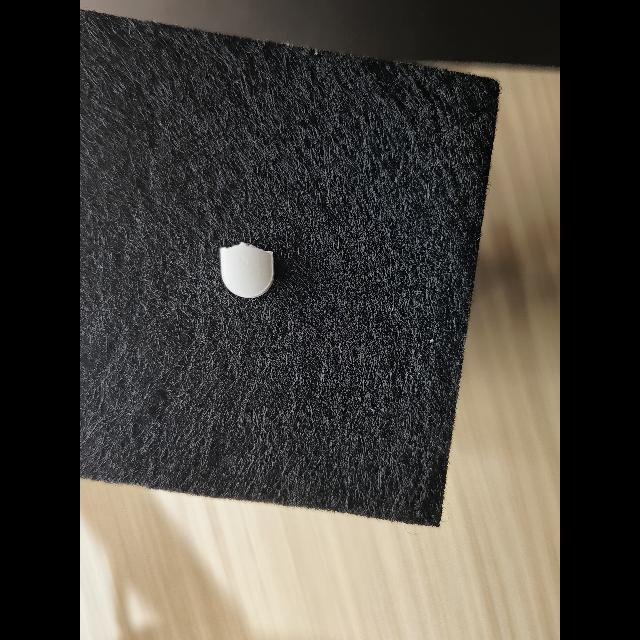Chipped Pill: (220, 242, 274, 298)
